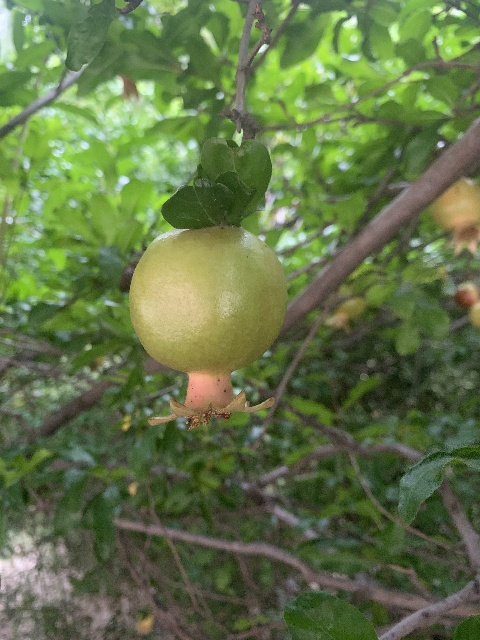mid-growth: (128, 224, 288, 430), (429, 178, 479, 256), (325, 297, 365, 333)
